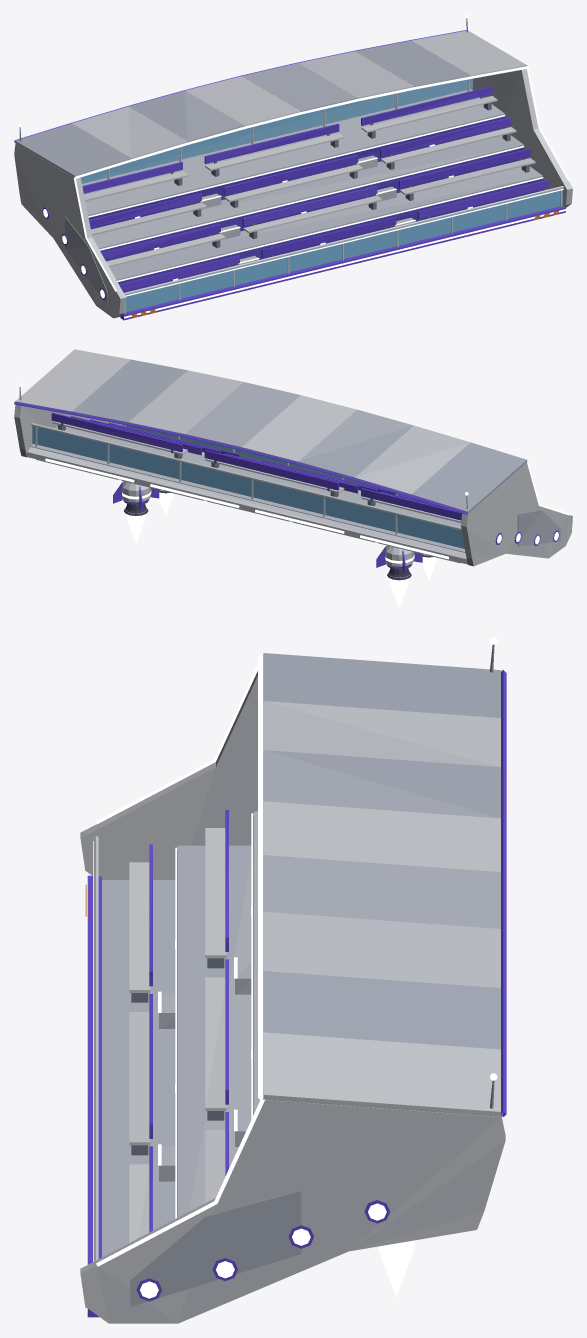
File: stand-space.glb
The picture shows the model from 3 angles, top to bottom: view 1: azimuth 30°, elevation 25°; view 2: azimuth 150°, elevation 25°; view 3: azimuth 270°, elevation 25°; orthographic projection. The views are drawn at different scales.
Visible parts, largest first — view 1: stand-space; view 2: stand-space; view 3: stand-space.
Part boxes in pixels (left/top/right/bottom): stand-space: left=14, top=14, right=572, bottom=320; stand-space: left=14, top=349, right=572, bottom=608; stand-space: left=80, top=637, right=506, bottom=1323.
Size of the model in its own units: 22.11 by 7.3 by 8.97.
